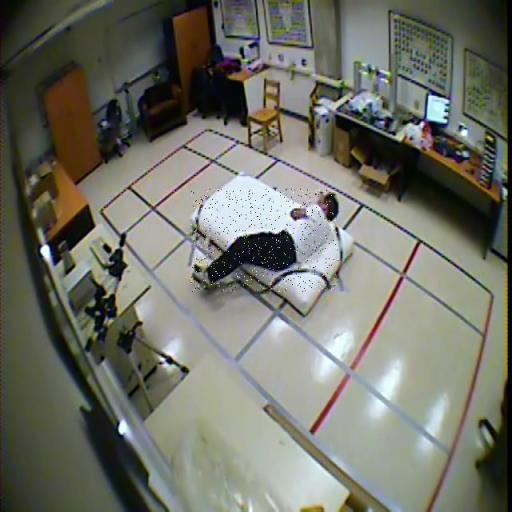Fall: (192, 189, 339, 292)
